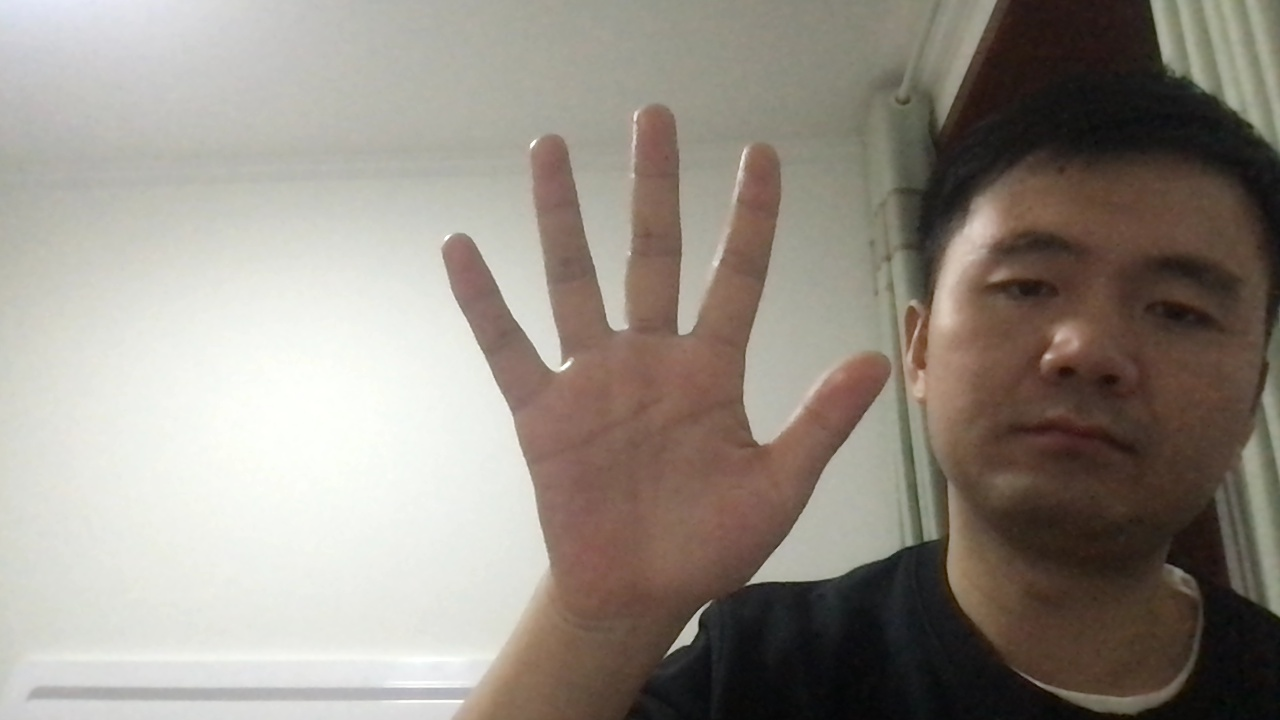hello: (421, 96, 900, 606)
